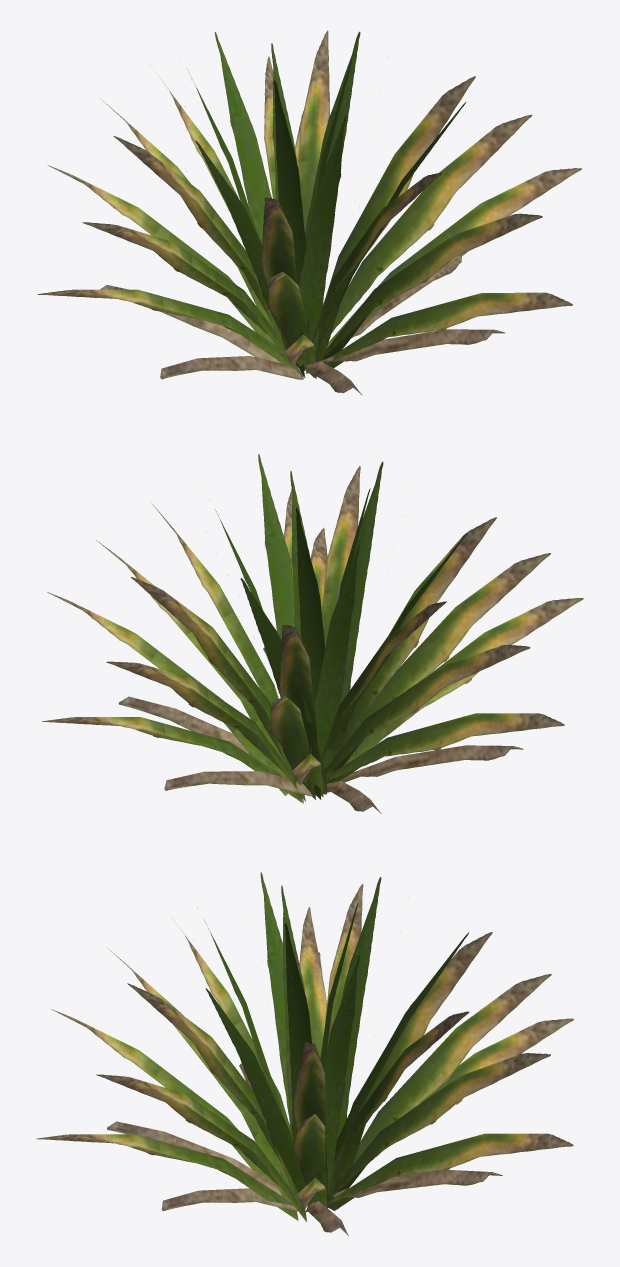
Rendered from plant2.FBX.
The picture shows the model from 3 angles, top to bottom: view 1: azimuth 30°, elevation 25°; view 2: azimuth 150°, elevation 25°; view 3: azimuth 270°, elevation 25°; orthographic projection. The views are drawn at different scales.
Visible parts, largest first — view 1: Box001; view 2: Box001; view 3: Box001.
Boxes of the visible parts, left/top/right/bottom form: Box001: left=37, top=30, right=581, bottom=395; Box001: left=42, top=454, right=583, bottom=813; Box001: left=36, top=872, right=573, bottom=1235.
Bounding box in the file's own units: 5.72 × 3.18 × 5.28.
